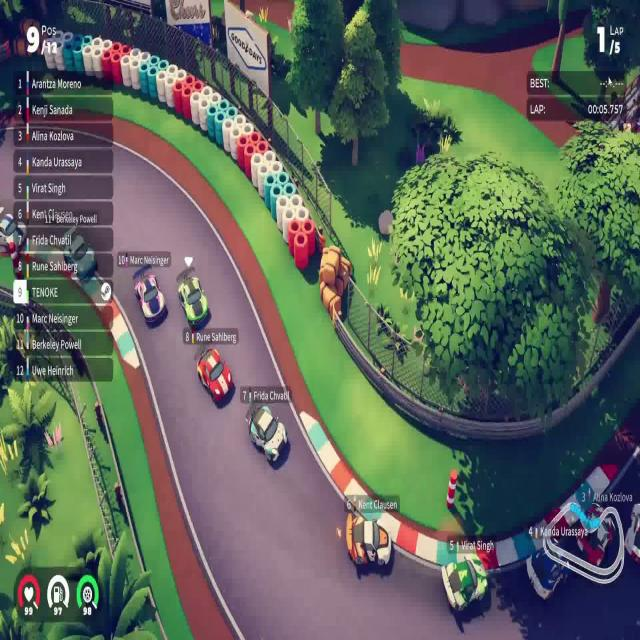car: (345, 510, 392, 570), (440, 557, 490, 610), (247, 403, 288, 464), (196, 345, 233, 405), (132, 264, 166, 325), (177, 270, 209, 329)
